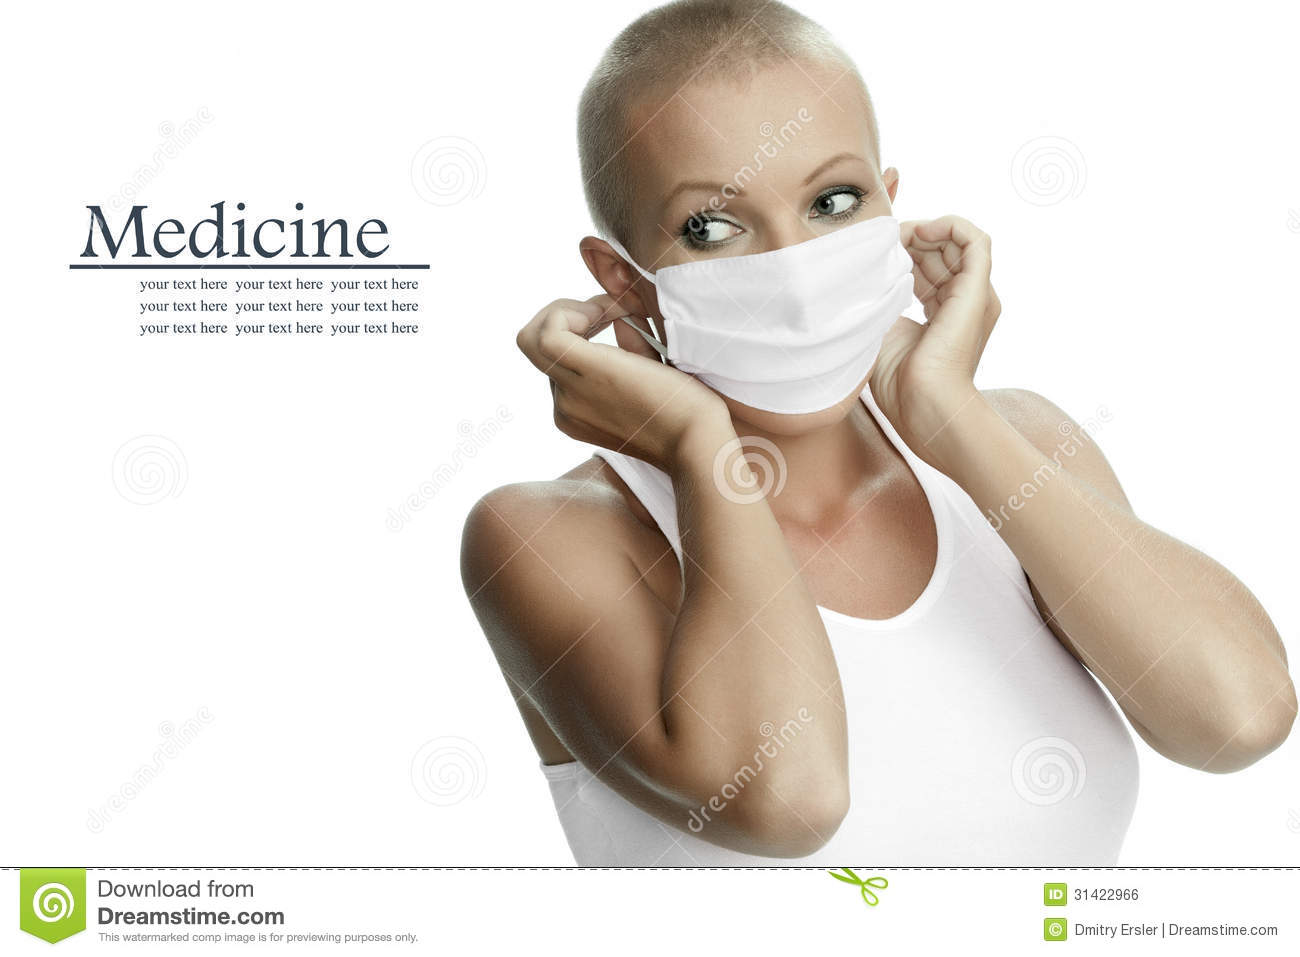mask: (661, 213, 910, 412)
